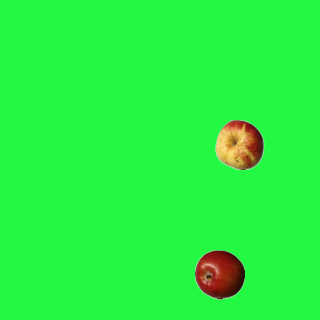Apple Braeburn: (194, 249, 244, 299)
Apple Red Yellow 1: (214, 119, 264, 169)
